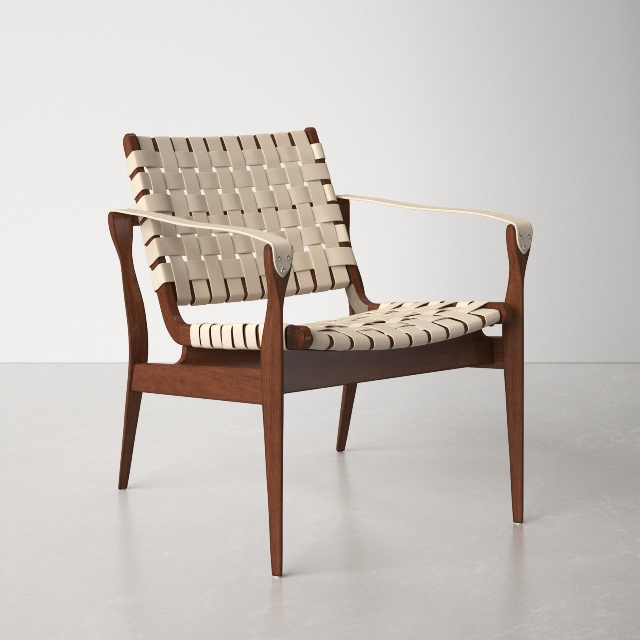obstacle: (108, 128, 532, 575)
